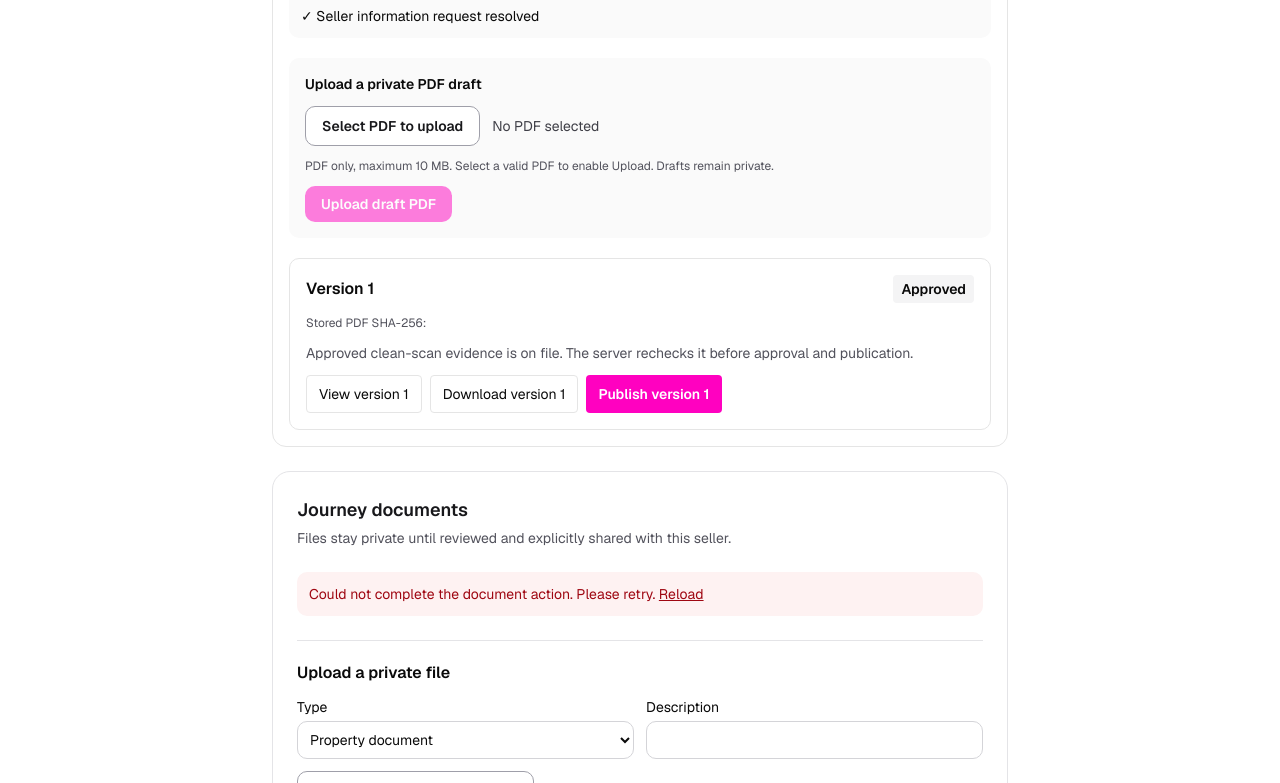
Test case: staff identity switch closes a pending publication confirmation
(page scrolled)
Click the button "Publish version 1". click: coordinates (654, 394)
box: [586, 375, 722, 413]
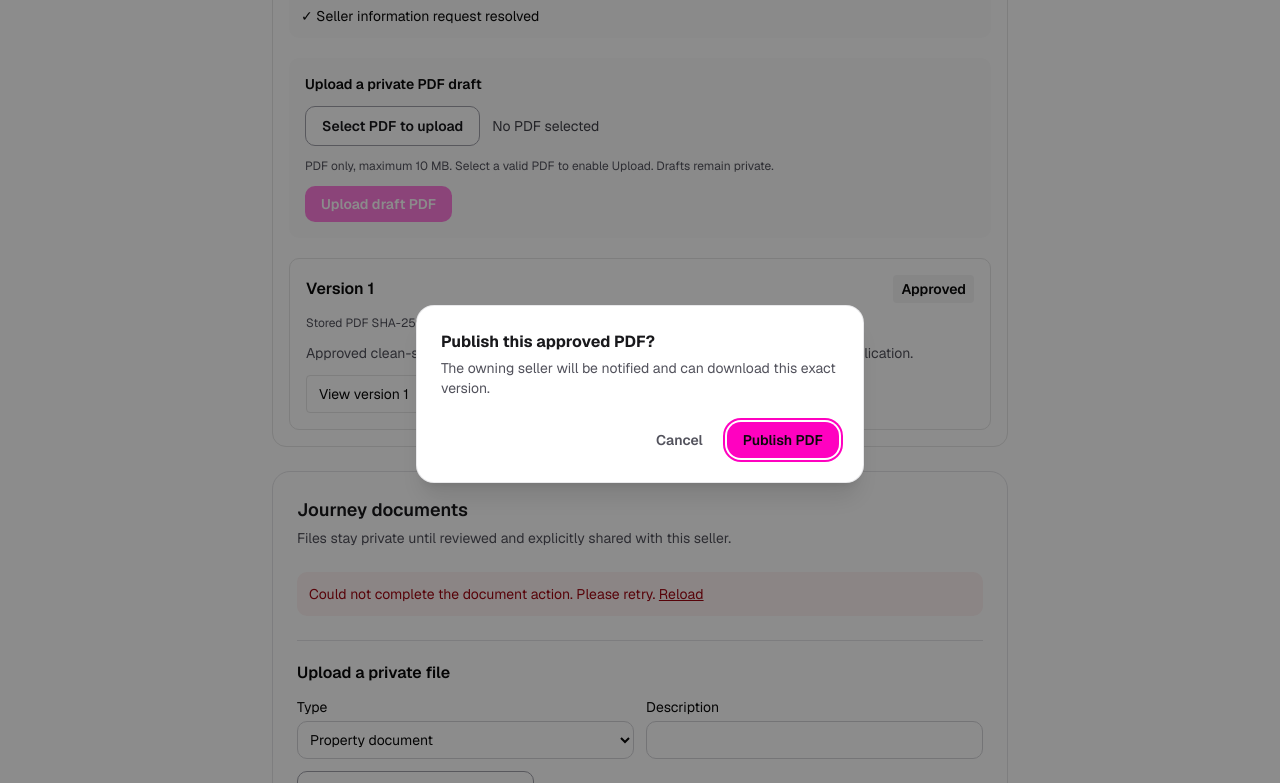
Check: the dialog is shown, box [416, 305, 864, 483]
